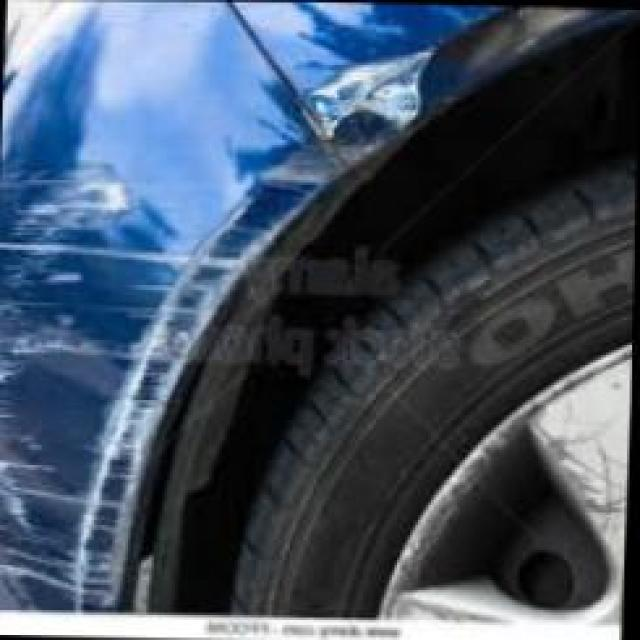Bumper: (0, 32, 436, 640)
